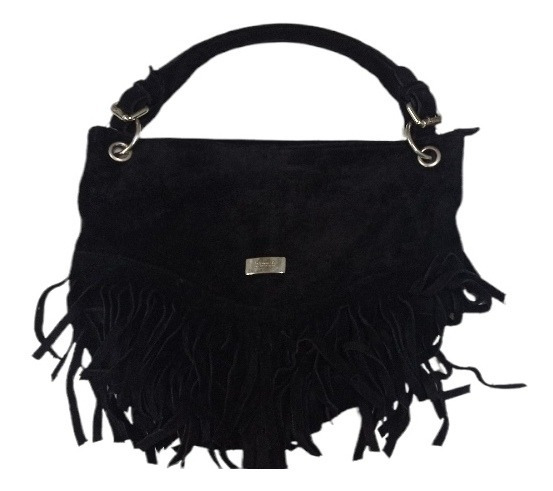cartera: (68, 20, 484, 446)
